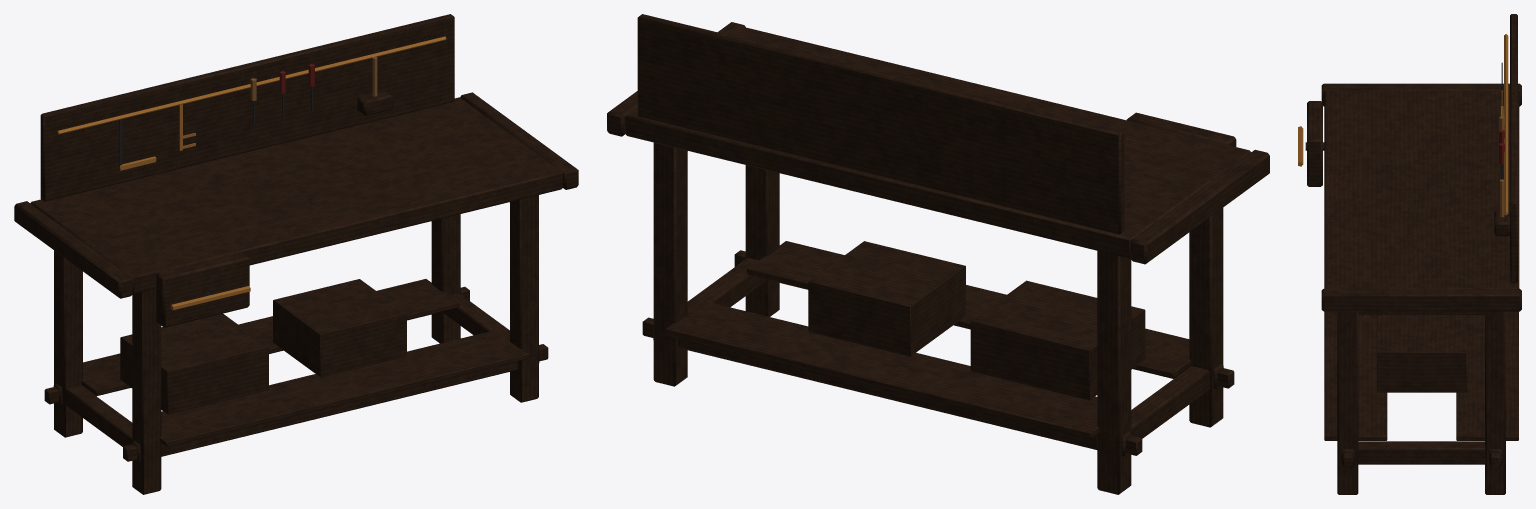
Rendered from maker-workbench.lod1.glb.
3 views of the same model, side by side, from view 1: azimuth 30°, elevation 25°; view 2: azimuth 150°, elevation 25°; view 3: azimuth 270°, elevation 25° (orthographic). The views are drawn at different scales.
Visible parts, largest first — view 1: maker_workbench_Timber • oiled walnut, maker_workbench_Trim • places palette; view 2: maker_workbench_Timber • oiled walnut; view 3: maker_workbench_Timber • oiled walnut, maker_workbench_Trim • places palette.
Boxes of the visible parts, x1,y1,x2,y2 form: maker_workbench_Timber • oiled walnut: (14, 14, 578, 494); maker_workbench_Trim • places palette: (57, 36, 446, 310); maker_workbench_Timber • oiled walnut: (607, 14, 1269, 494); maker_workbench_Timber • oiled walnut: (1307, 14, 1521, 494); maker_workbench_Trim • places palette: (1298, 34, 1508, 217).
Size of the model in its own units: 1.9 by 1.24 by 0.8489.
2 materials, 2 textured.
